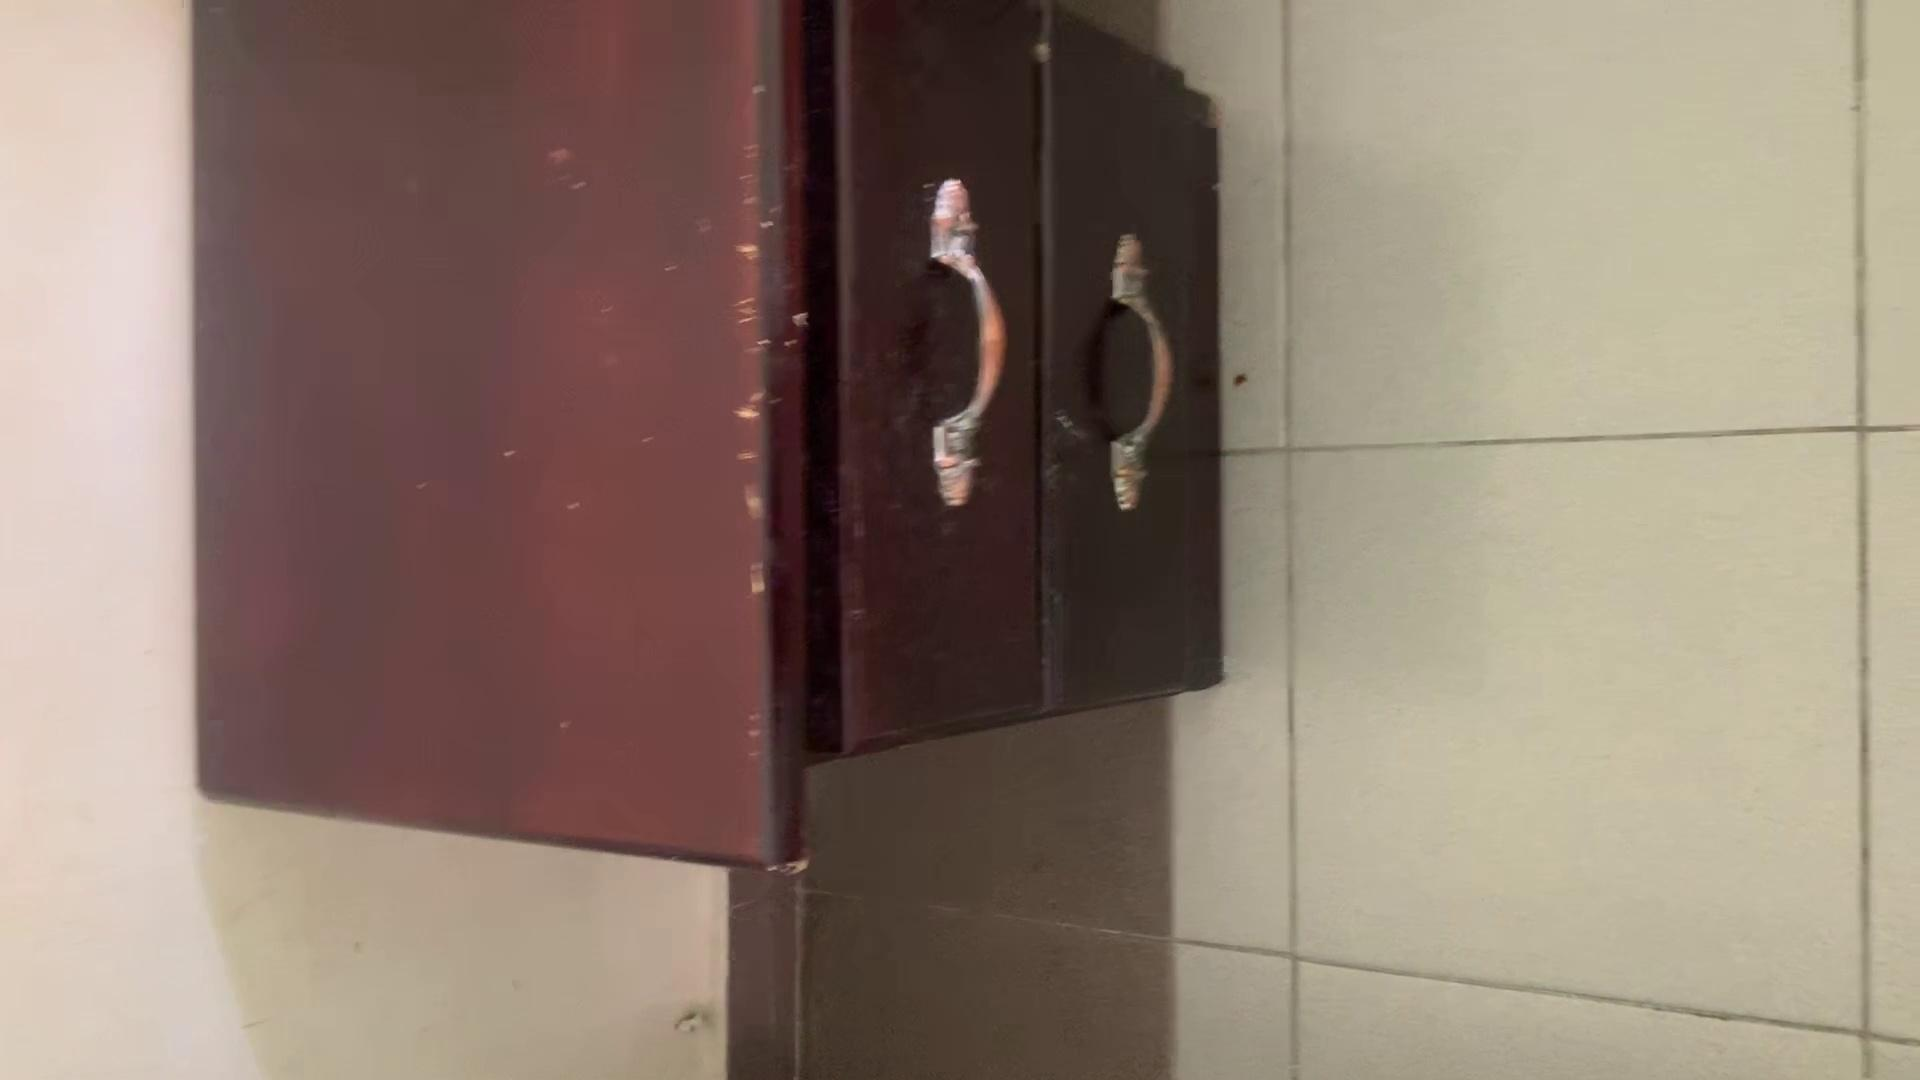cabinet_door: (845, 0, 1043, 728), (1044, 57, 1215, 695)
handle: (930, 170, 1018, 526), (1091, 236, 1174, 509)
